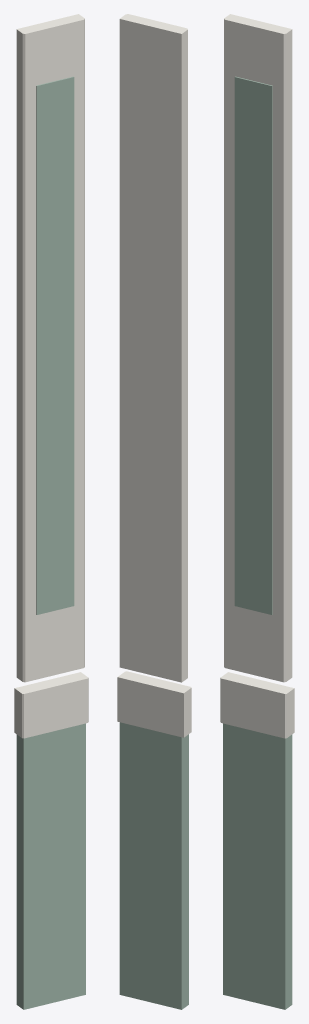
File: pilaster_g_e.glb
3 renders of one model, left to right at view 1: azimuth 30°, elevation 25°; view 2: azimuth 150°, elevation 25°; view 3: azimuth 330°, elevation 25°, orthographic.
Visible parts, largest first — view 1: pilaster_g_e_acc_e, pilaster_g_e_trim; view 2: pilaster_g_e_trim, pilaster_g_e_acc_e; view 3: pilaster_g_e_acc_e, pilaster_g_e_trim.
Part boxes in pixels (x1,y1,x2,y2): pilaster_g_e_acc_e: (16,76,85,1009); pilaster_g_e_trim: (14,14,88,738); pilaster_g_e_trim: (117,14,191,737); pilaster_g_e_acc_e: (119,722,188,1009); pilaster_g_e_acc_e: (223,76,292,1009); pilaster_g_e_trim: (220,14,294,738).
Bounding box in the file's own units: 0.32 × 4.5 × 0.07.
